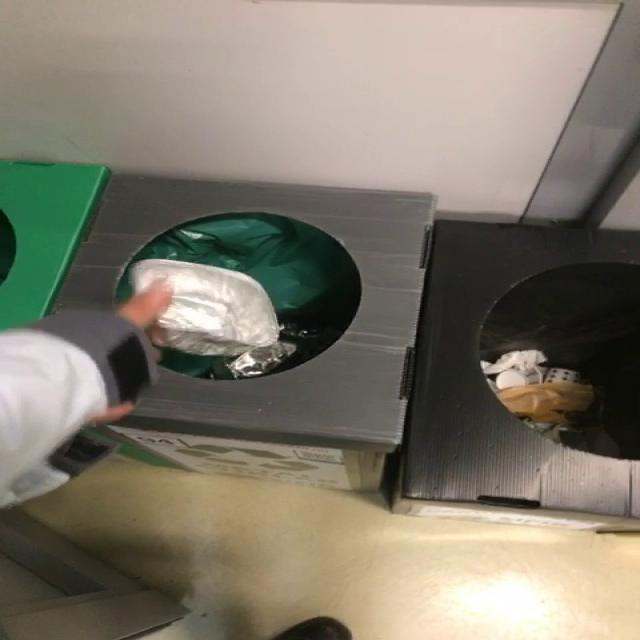bin: (52, 175, 640, 516)
metal: (129, 259, 296, 378)
